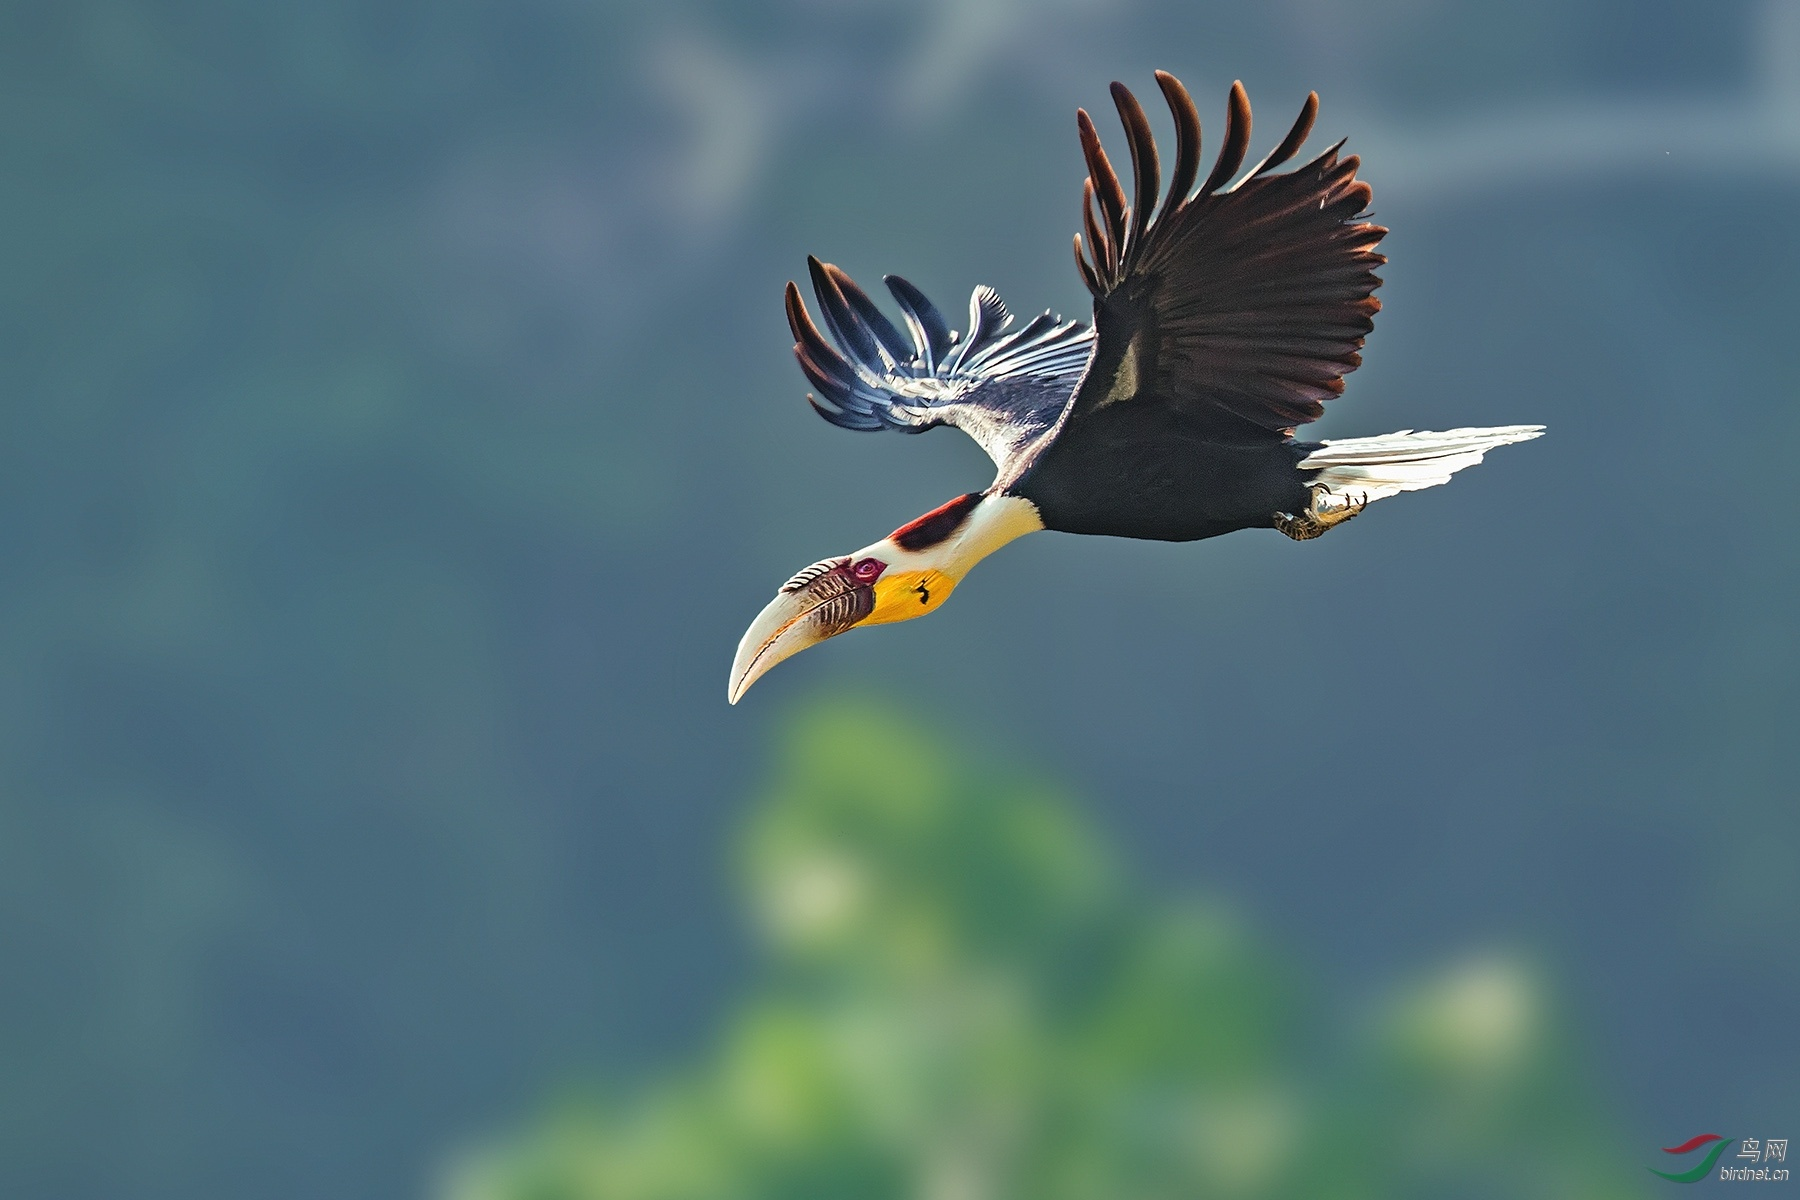bird: (663, 78, 1556, 721)
